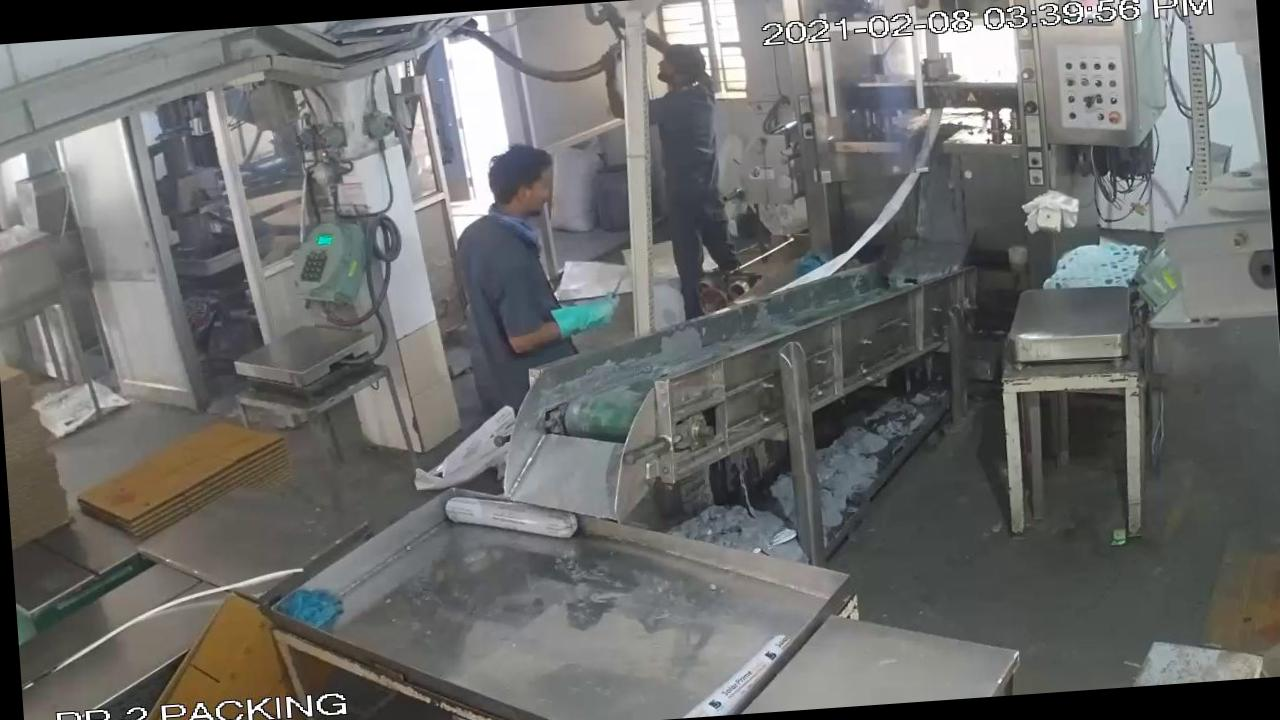Gloves: (530, 286, 635, 362)
